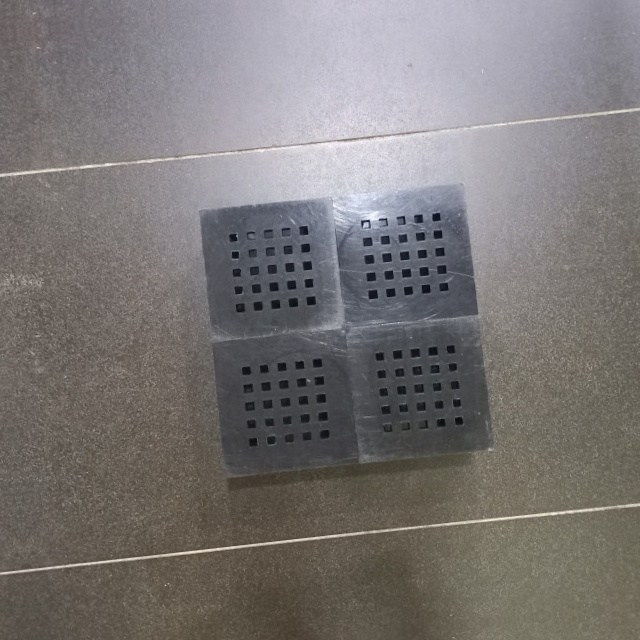pallet: (190, 175, 498, 487)
